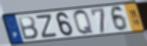6: (109, 5, 129, 34), (55, 11, 75, 38)
7: (89, 7, 106, 35)
B: (17, 15, 40, 41)
Q: (73, 9, 96, 37)
Z: (35, 13, 59, 40)
